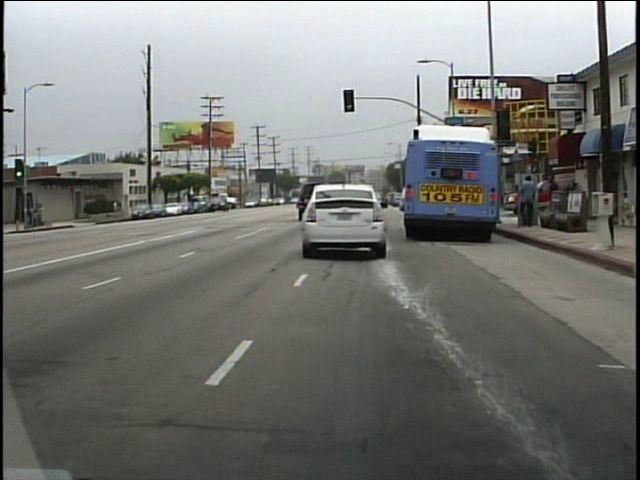person: (513, 172, 537, 231), (111, 196, 122, 218)
